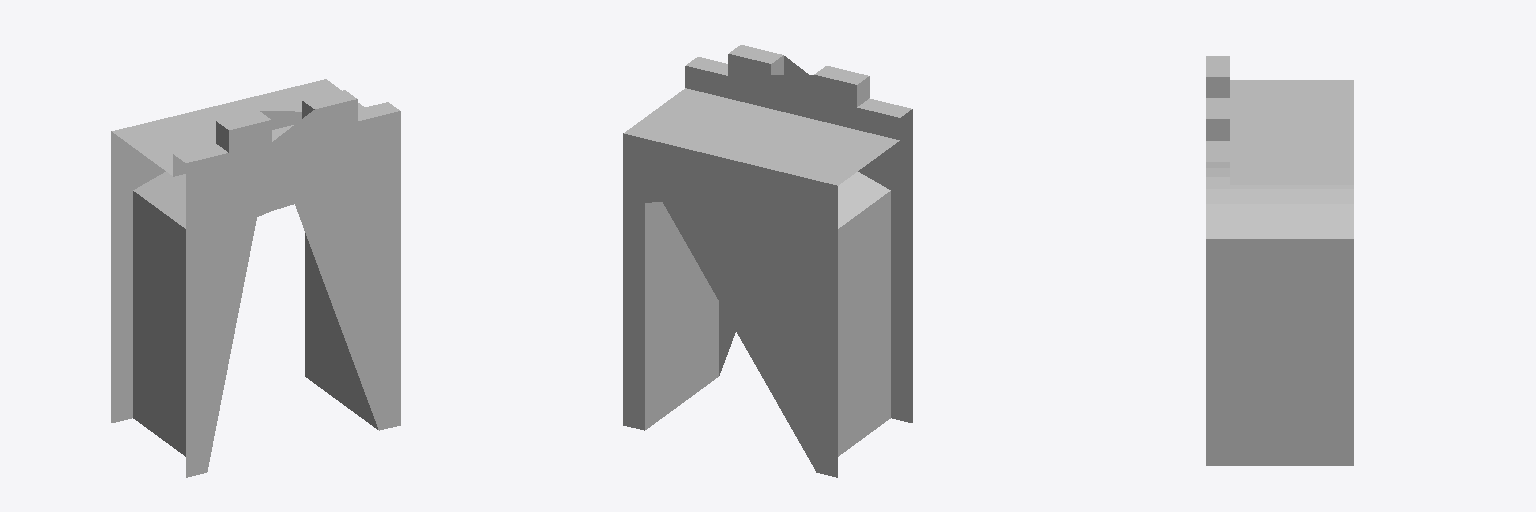
Rendered from CityWallArchwayNear.obj.
3 renders of one model, left to right at view 1: azimuth 30°, elevation 25°; view 2: azimuth 150°, elevation 25°; view 3: azimuth 270°, elevation 25°, orthographic.
Visible parts, largest first — view 1: Cube; view 2: Cube; view 3: Cube.
Boxes of the visible parts, box(x1,y1,x2,y2) form: Cube: box(111, 79, 400, 477); Cube: box(623, 45, 912, 477); Cube: box(1206, 56, 1353, 465).
Size of the model in its own units: 10 by 15 by 6.